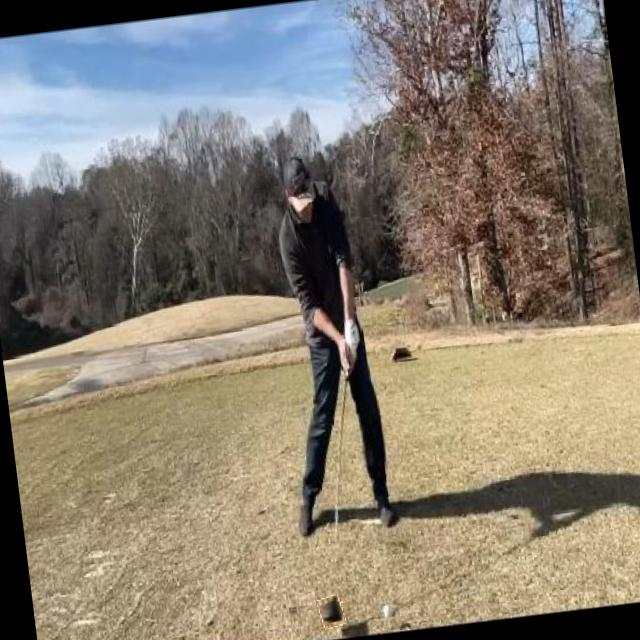club head: (318, 594, 346, 630)
